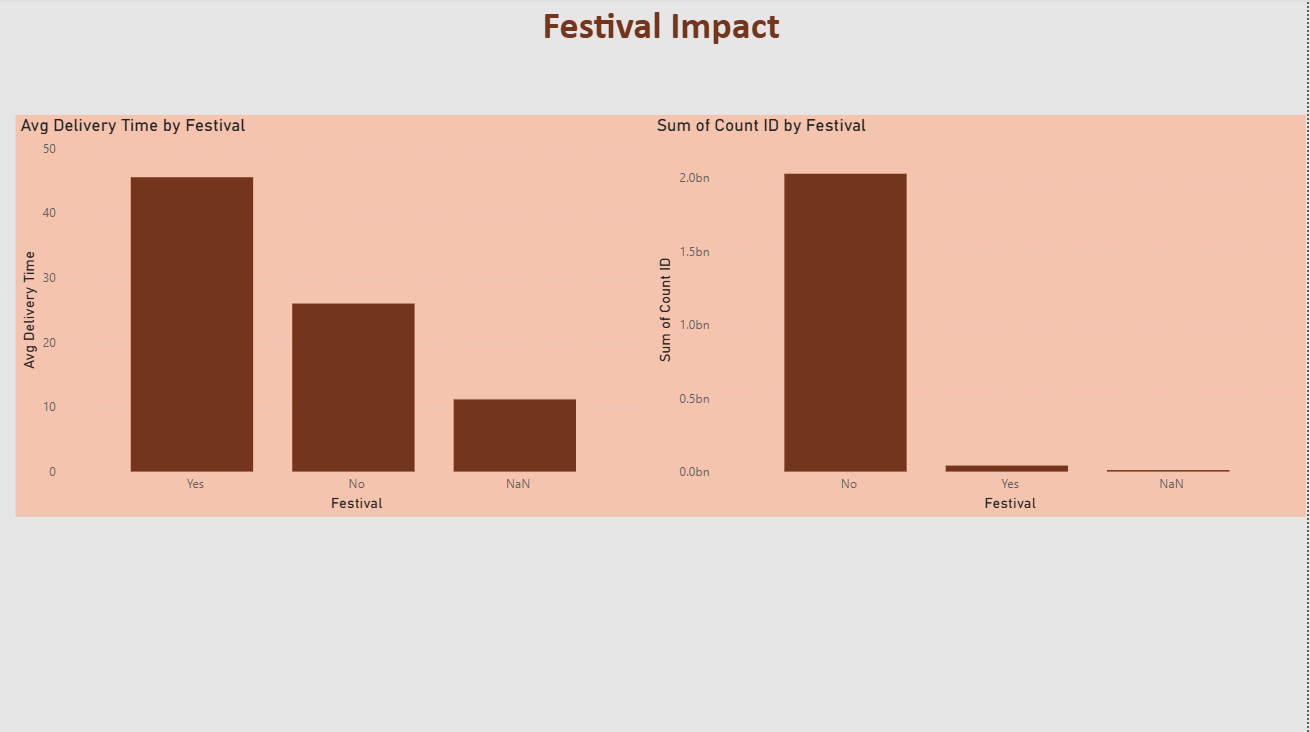

The page's visual inventory and layout, read from the dashboard file:
{"tool":"powerbi","page":{"name":"Festival Impact","canvas":[1280,720],"ordinal":4},"visuals":[{"type":"clusteredColumnChart","fields":{"Category":["data set.Festival"],"Y":["data set.Avg Delivery Time"]},"box":[16.7,115,623.3,393.3],"z":0},{"type":"clusteredColumnChart","fields":{"Category":["data set.Festival"],"Y":["Sum(data set.Count ID)"]},"box":[640,115,640,393.3],"z":1000},{"type":"textbox","box":[16.7,0,1263.3,115],"z":2000}]}

Visuals, with their boxes in screenshot pixels (x1, y1, x2, y2), scaled from the page's 1280x720 canvas onto the 1310x732 screenshot:
clusteredColumnChart - data set.Festival x data set.Avg Delivery Time: l=17, t=117, r=655, b=517
clusteredColumnChart - data set.Festival x Sum(data set.Count ID): l=655, t=117, r=1309, b=517
textbox: l=17, t=0, r=1309, b=117
